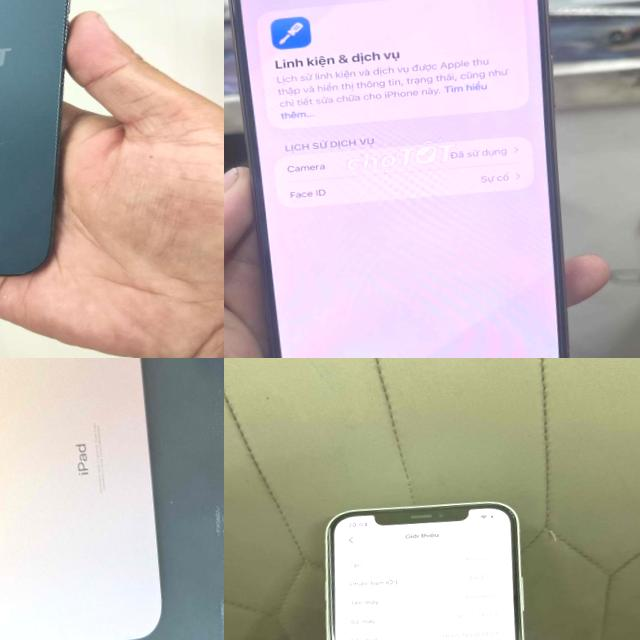gen_12_13: (284, 485, 568, 640), (0, 0, 106, 297)
gen_16: (230, 0, 567, 358)
